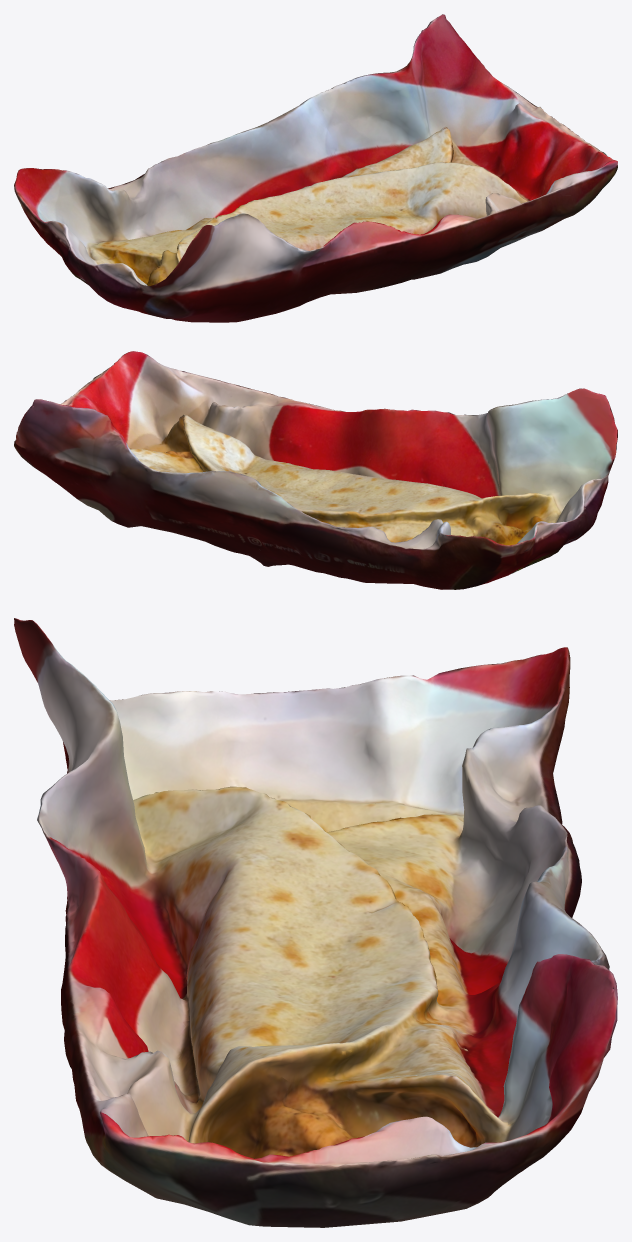
The model's file is Hawaiian(Tacos_Category)_1757459996121.glb.
3 renders of one model, top to bottom at view 1: azimuth 30°, elevation 25°; view 2: azimuth 150°, elevation 25°; view 3: azimuth 270°, elevation 25°, orthographic. The views are drawn at different scales.
Parts seen in each view (by area): view 1: 3D_model; view 2: 3D_model; view 3: 3D_model.
Boxes of the visible parts, bbox=[...] form: 3D_model: bbox=[14, 14, 617, 322]; 3D_model: bbox=[14, 351, 617, 589]; 3D_model: bbox=[14, 618, 617, 1227].
Bounding box in the file's own units: 0.2292 × 0.0673 × 0.124.
Materials: 1 (1 with a texture image).
